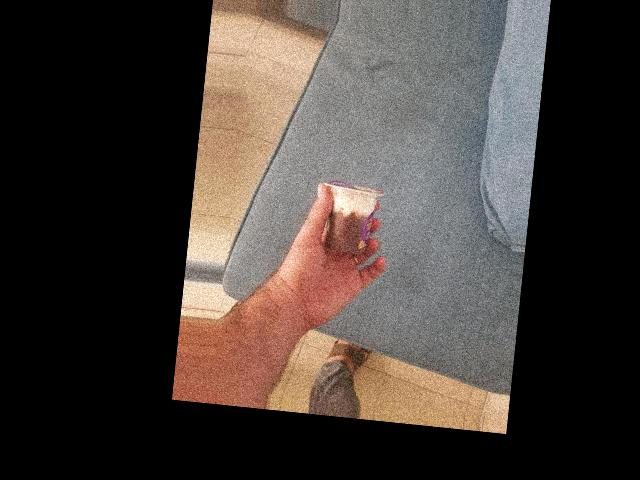milky: (380, 162, 475, 231)
